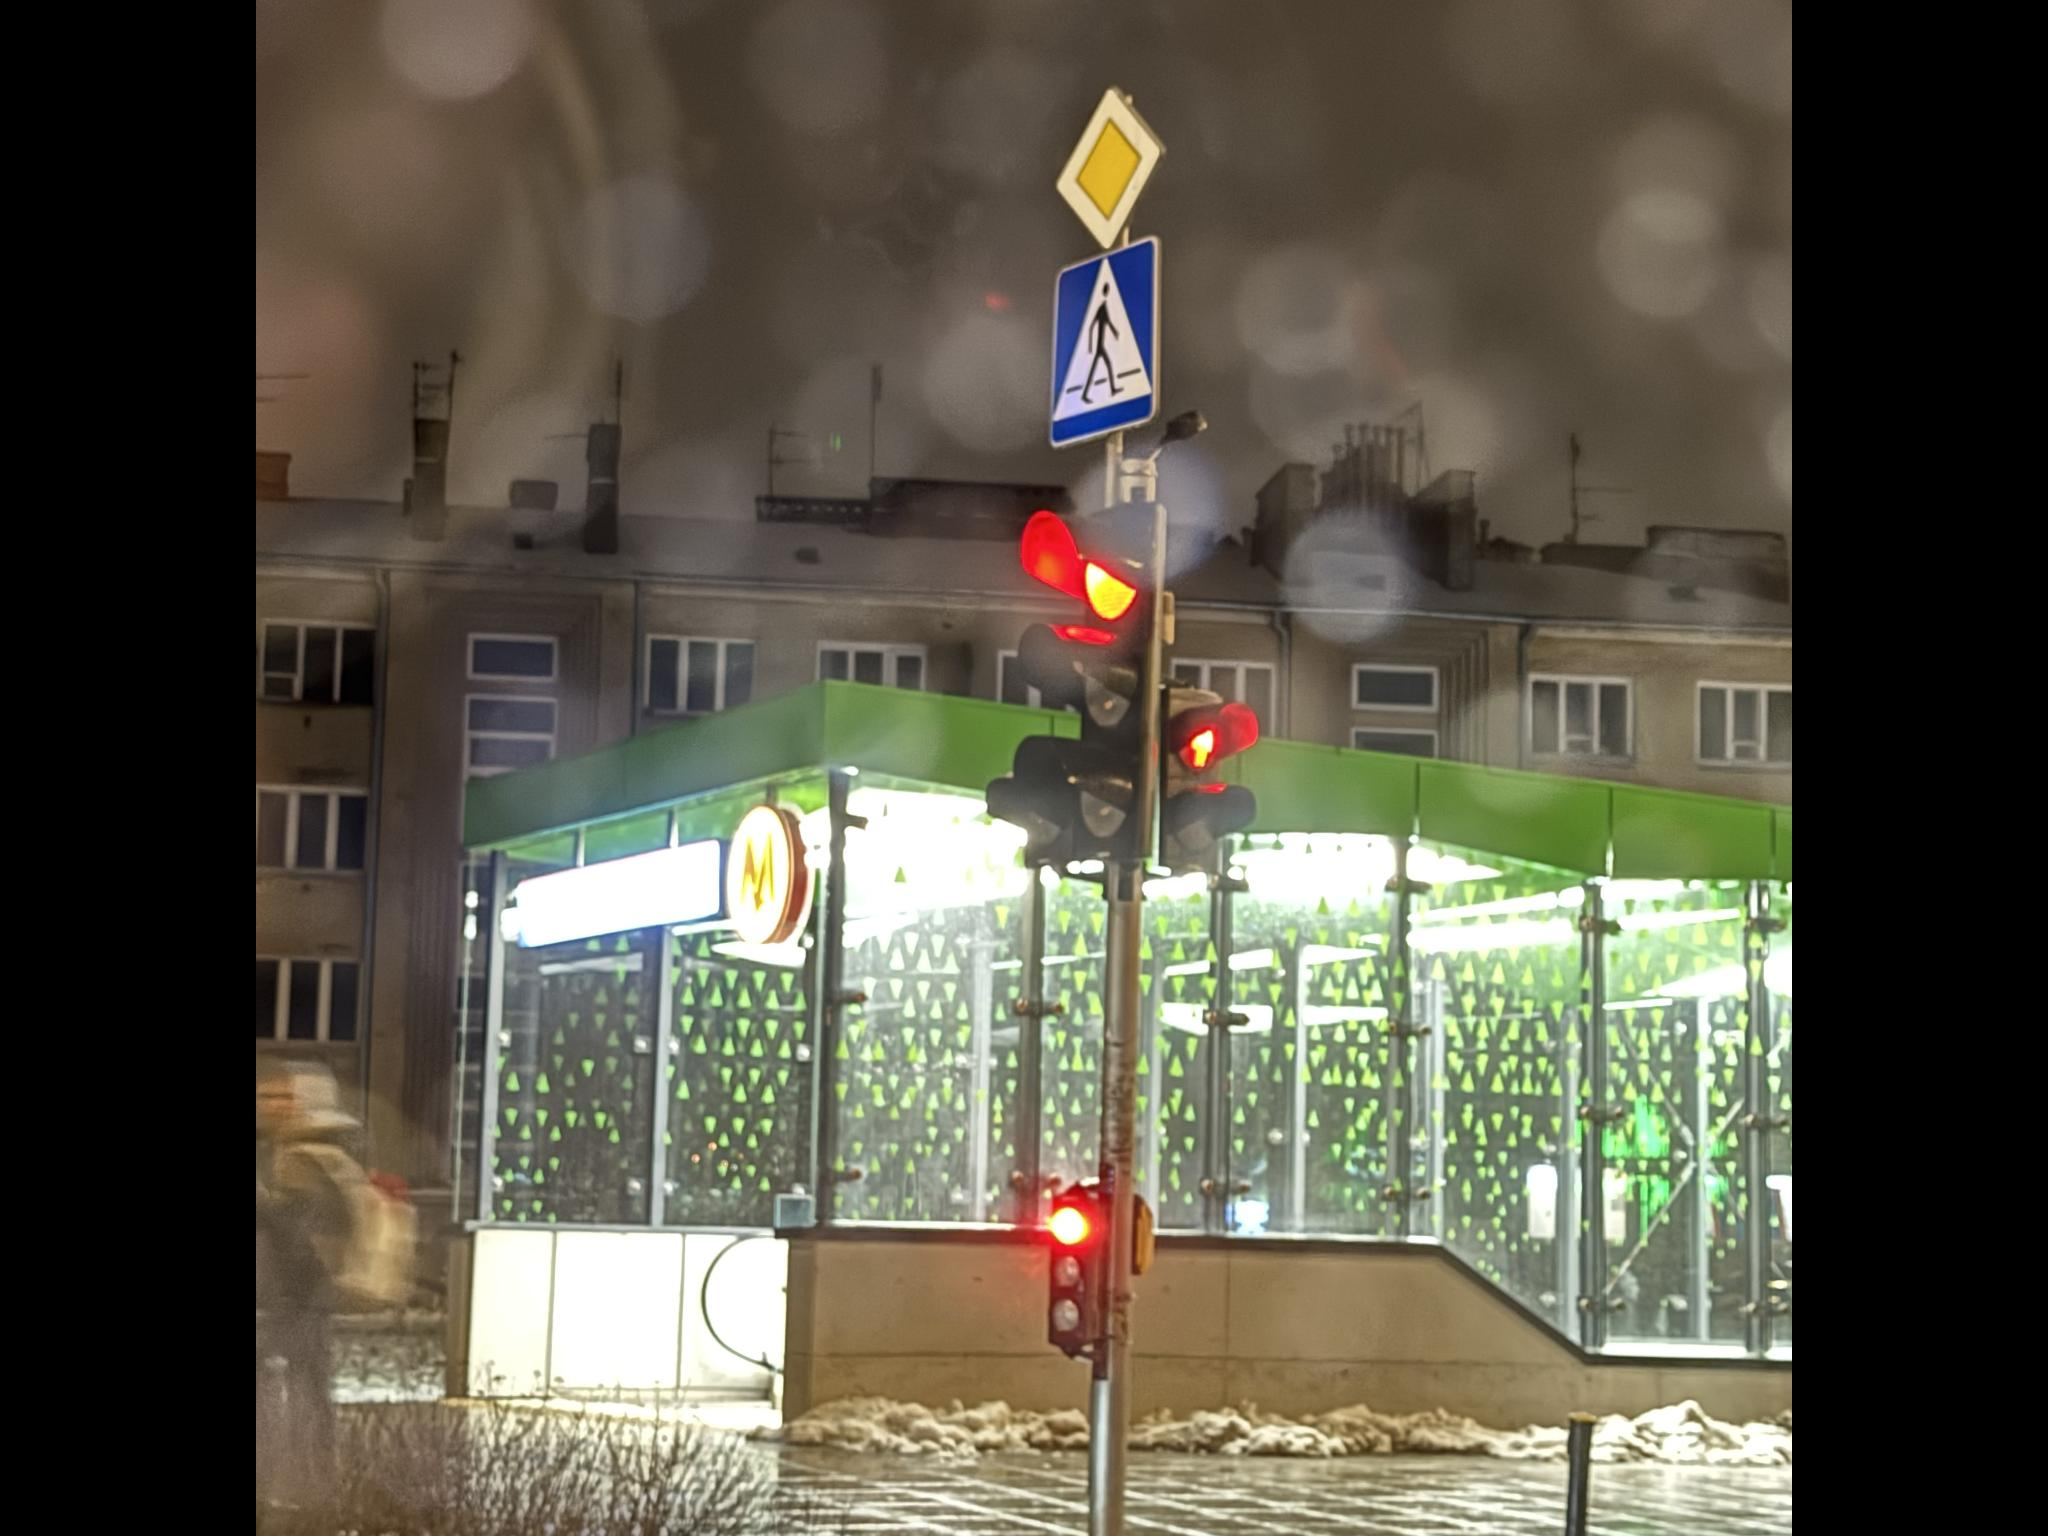information: (745, 374, 959, 489), (593, 369, 764, 486)
